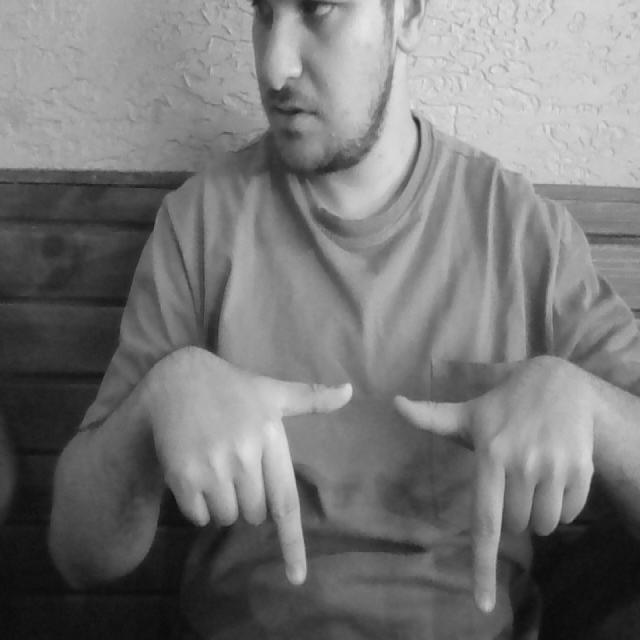Nerede: (256, 368, 509, 618)
